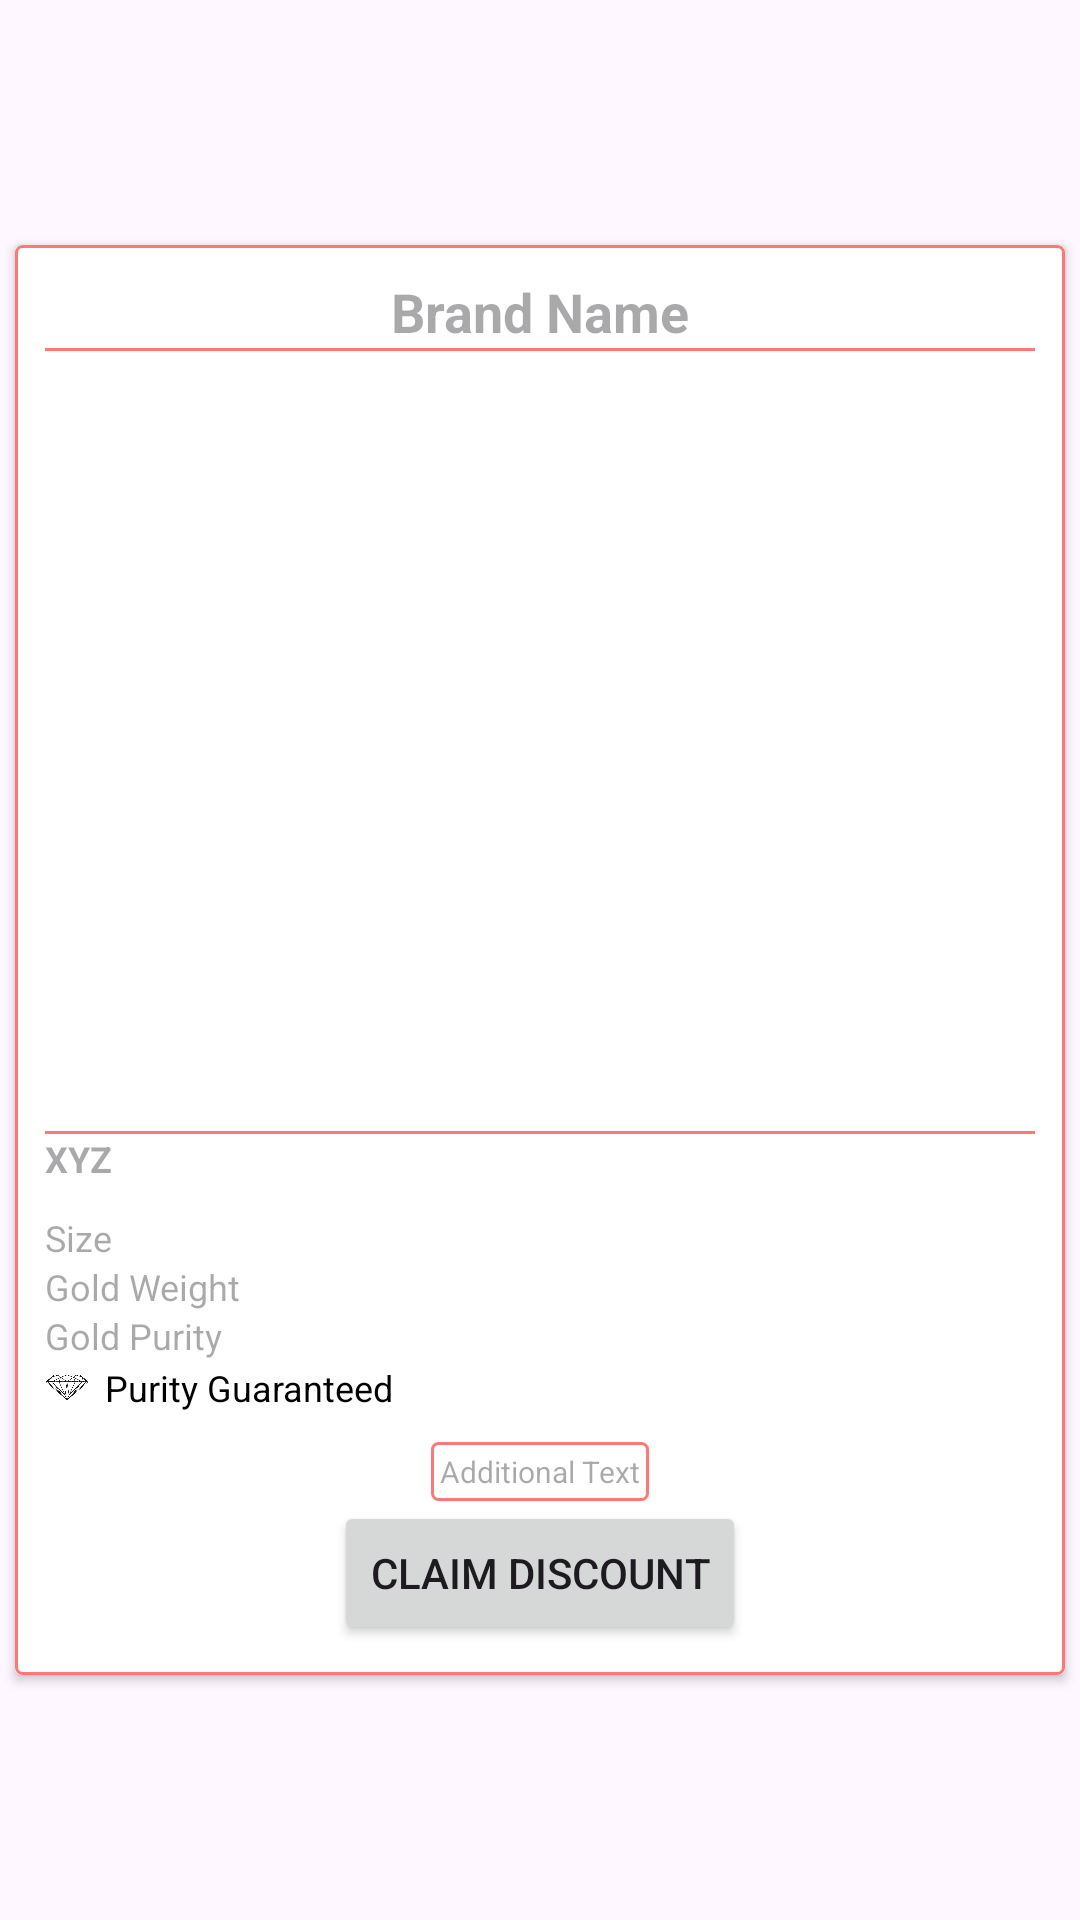

Screen size 1080px x 1920px. Icon name, then its box in pixels as (x1,y1,x2,y2):
diamond: (46,1375,88,1400)
